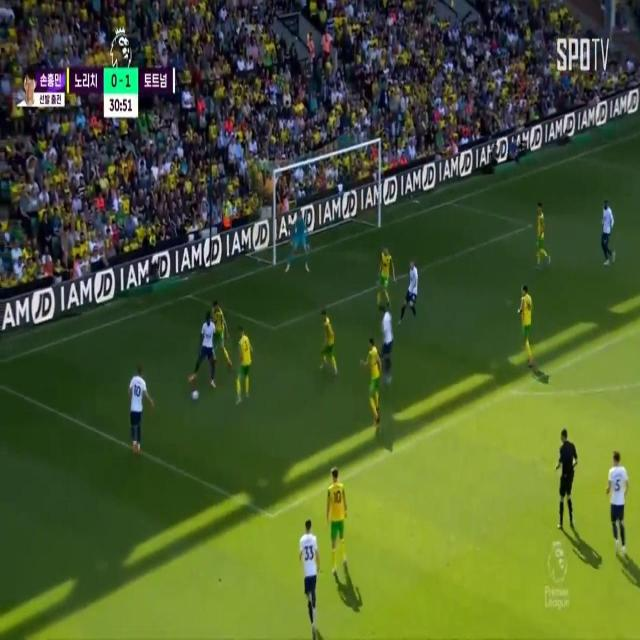ball: (192, 381, 202, 411)
player: (322, 460, 352, 568), (606, 450, 630, 552), (299, 512, 319, 622), (373, 238, 395, 322), (128, 360, 148, 444), (196, 312, 218, 385), (317, 305, 337, 385), (364, 336, 384, 416), (235, 322, 255, 400), (533, 198, 551, 272), (597, 202, 619, 262), (519, 281, 535, 361), (405, 258, 419, 325), (382, 299, 392, 375), (213, 299, 224, 358)
referee: (557, 429, 573, 522)
